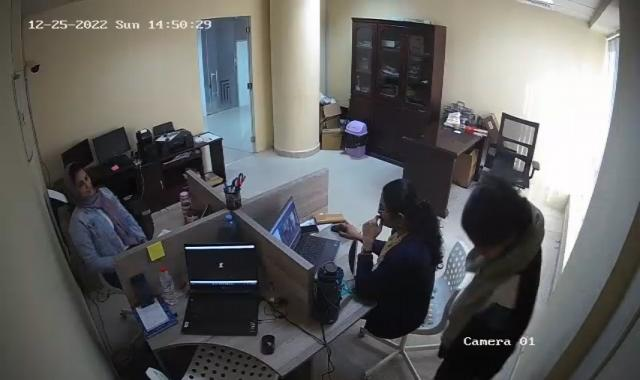no_hairnet: (462, 176, 528, 251), (379, 178, 418, 230), (64, 162, 94, 199)
